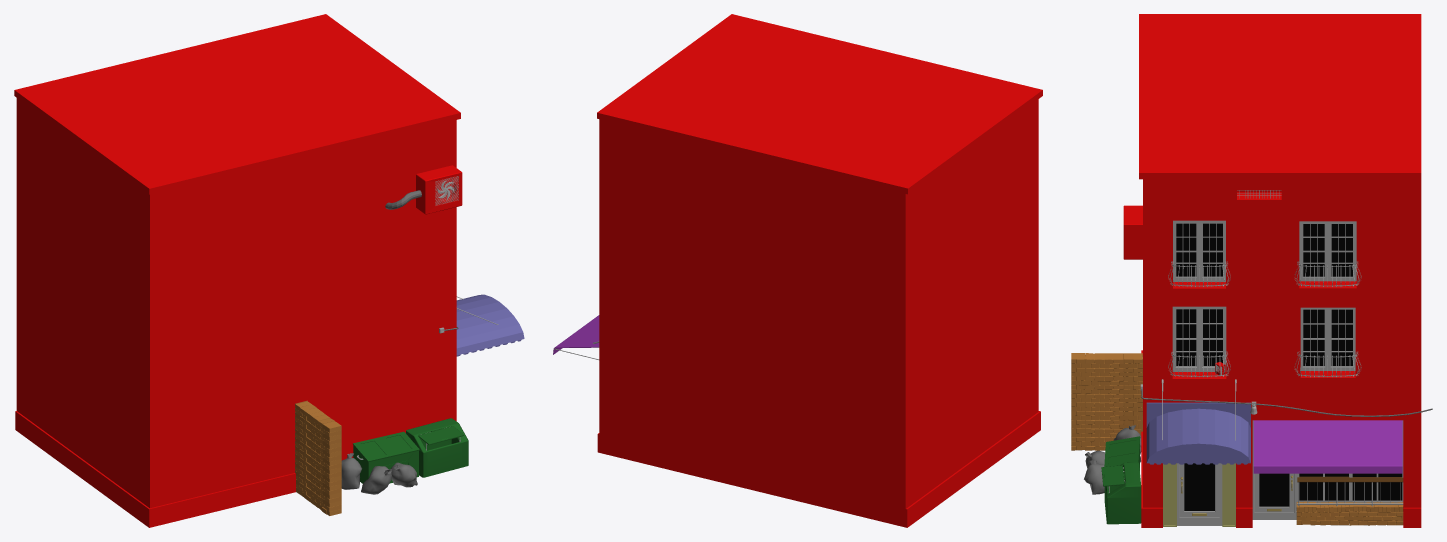
File: house5.1_merged2.fbx
3 renders of one model, left to right at view 1: azimuth 30°, elevation 25°; view 2: azimuth 150°, elevation 25°; view 3: azimuth 270°, elevation 25°, orthographic. The views are drawn at different scales.
Visible parts, largest first — view 1: polySurface2555; view 2: polySurface2555; view 3: polySurface2555.
Part boxes in pixels (bbox=[...]): polySurface2555: bbox=[14, 14, 524, 527]; polySurface2555: bbox=[553, 14, 1042, 527]; polySurface2555: bbox=[1071, 14, 1432, 527].
Bounding box in the file's own units: 12.4 × 10.83 × 9.81.
